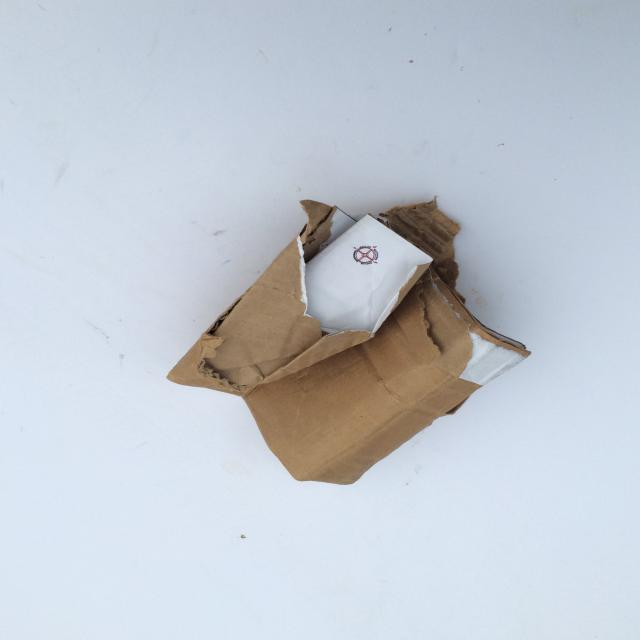cardboard: (166, 195, 532, 486)
